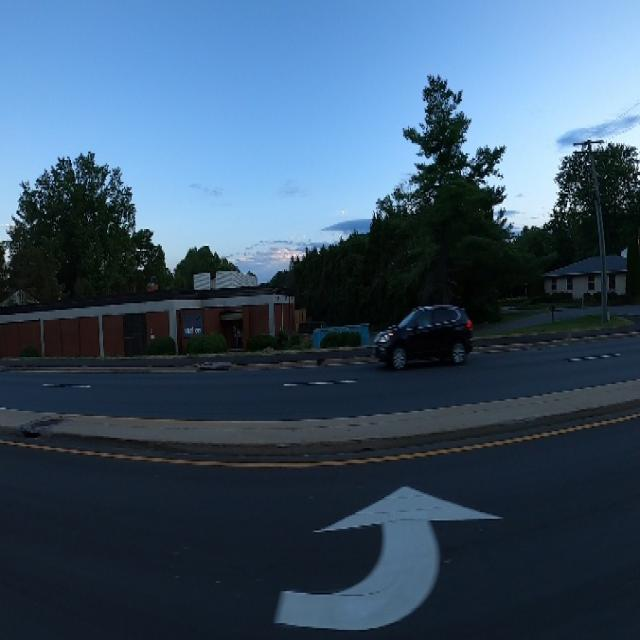cars: (375, 292, 471, 375)
